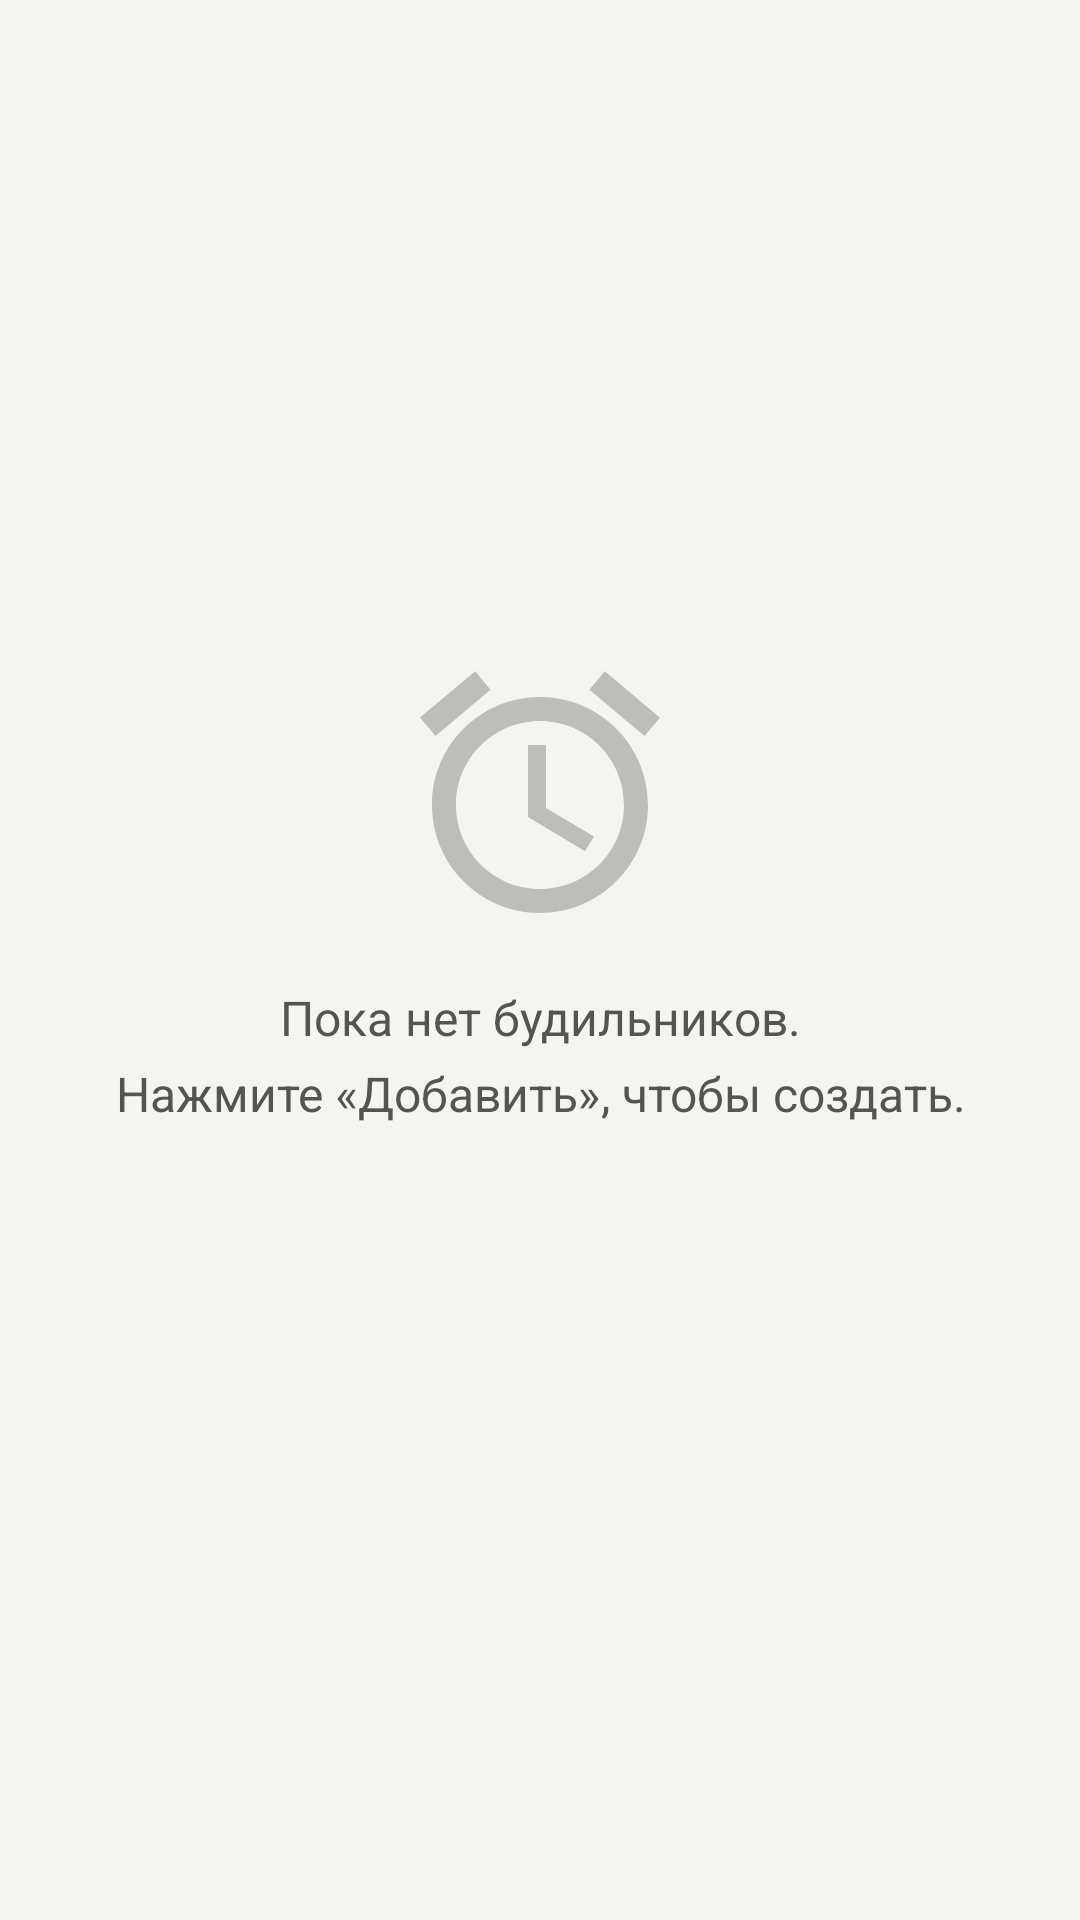

Point at icon controls on the screen. Image size 1080 × 1920, points as [x,y].
alarm: [540,792]
